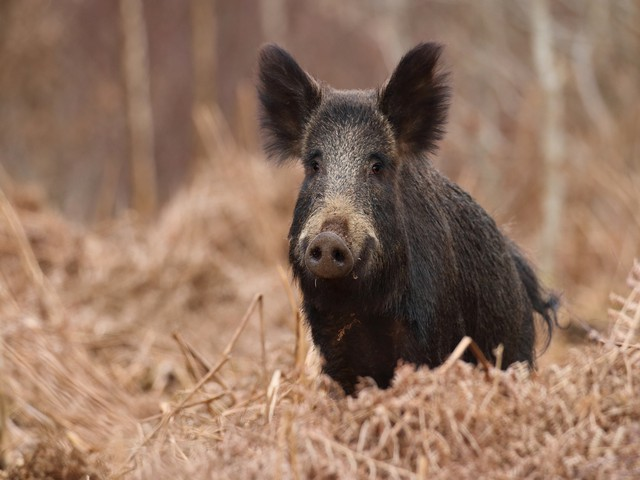Pig: (252, 37, 573, 362)
